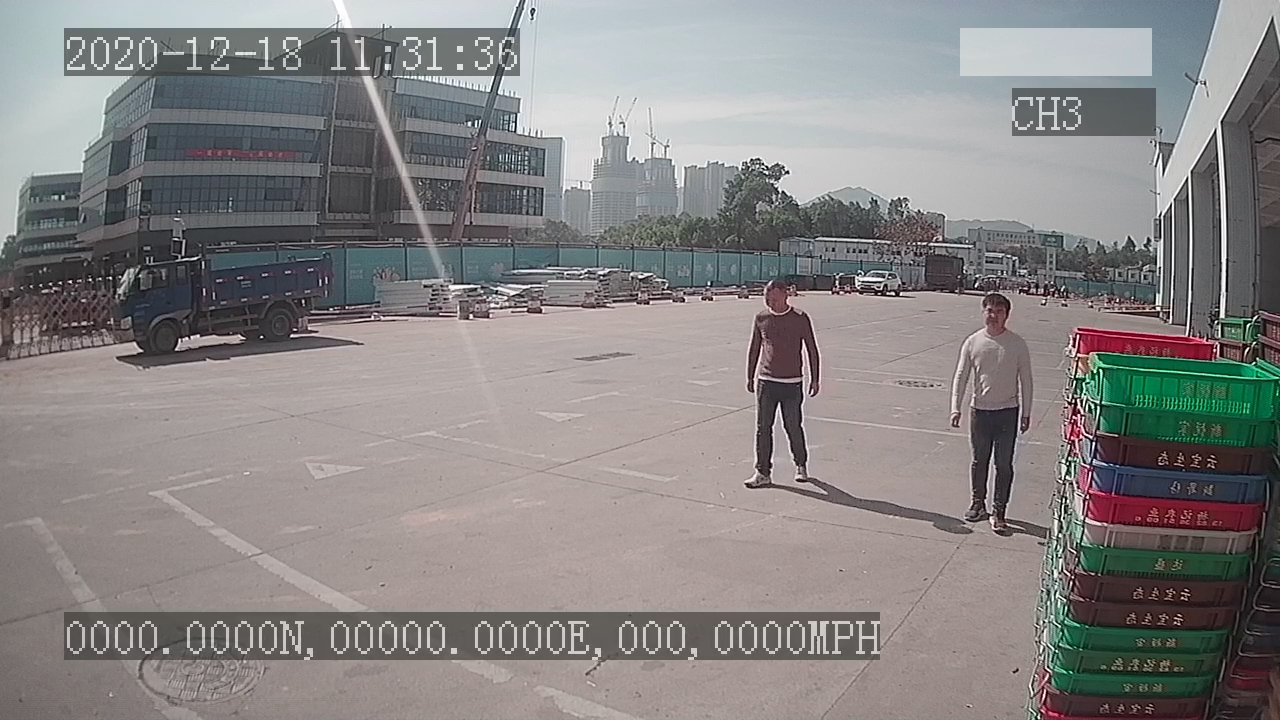person: (951, 287, 1037, 540), (741, 276, 825, 495)
